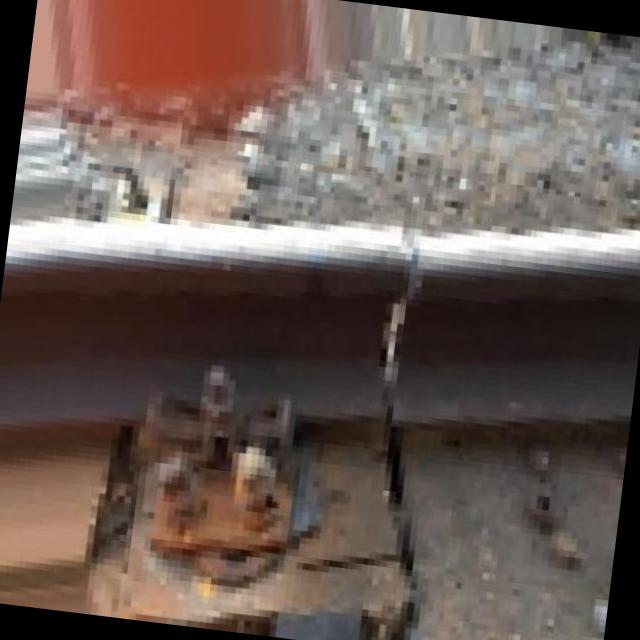defective: (176, 54, 584, 556)
